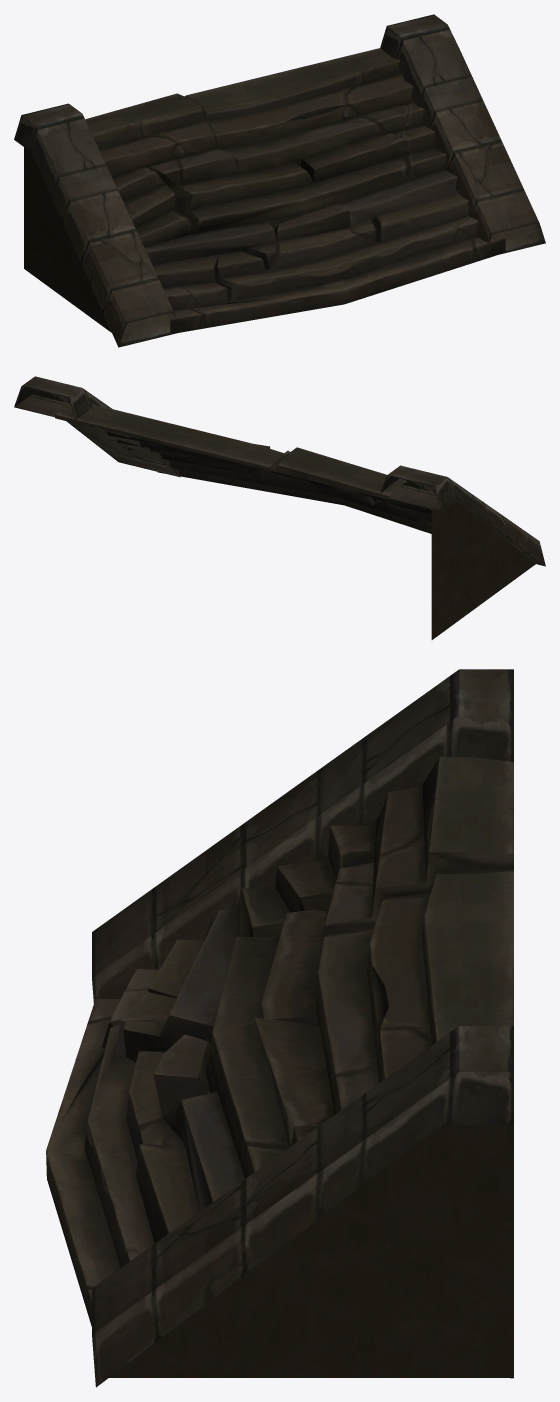
The model's file is fortress_half_stair_01.fbx.
3 views of the same model, one above another, from view 1: azimuth 30°, elevation 25°; view 2: azimuth 150°, elevation 25°; view 3: azimuth 270°, elevation 25° (orthographic). The views are drawn at different scales.
Parts seen in each view (by area): view 1: fortress_half_stair_01-0; view 2: fortress_half_stair_01-0; view 3: fortress_half_stair_01-0.
Part boxes in pixels (x1,y1,x2,y2): fortress_half_stair_01-0: (14,14,545,347); fortress_half_stair_01-0: (14,376,545,639); fortress_half_stair_01-0: (46,669,513,1387).
Bounding box in the file's own units: 9.36 × 3.23 × 4.44.
